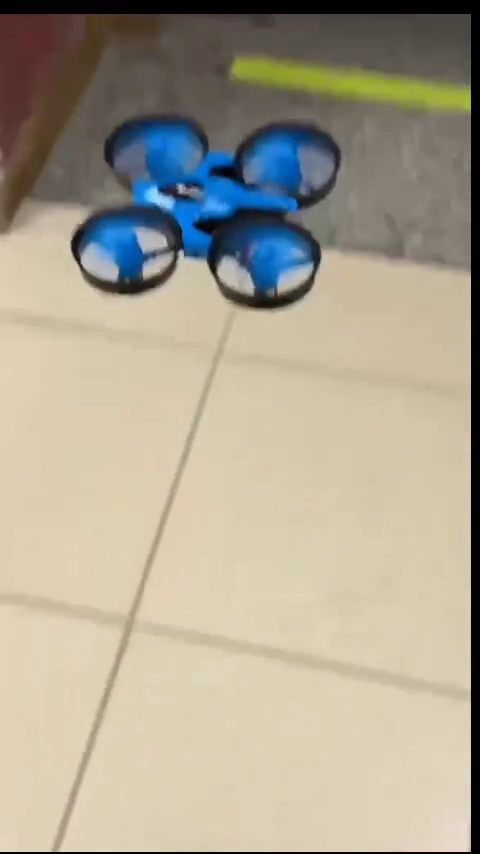drone: (75, 117, 337, 312)
